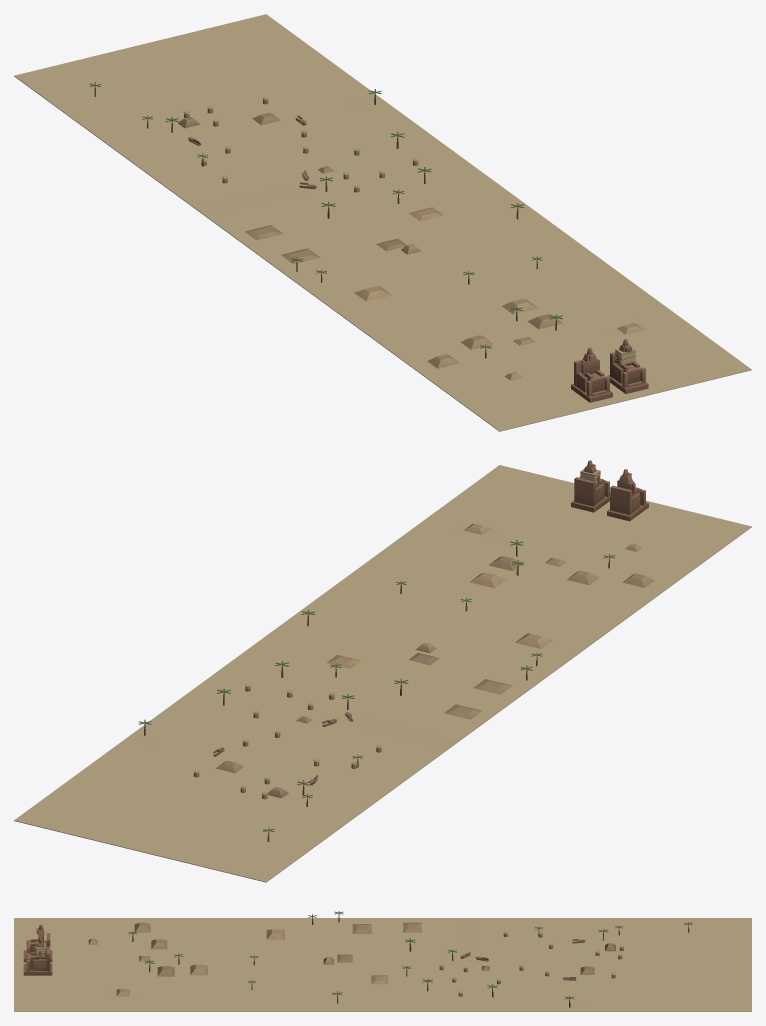
The model's file is memnon-roman.glb.
3 renders of one model, top to bottom at view 1: azimuth 30°, elevation 25°; view 2: azimuth 150°, elevation 25°; view 3: azimuth 270°, elevation 25°, orthographic. The views are drawn at different scales.
Parts seen in each view (by area): view 1: p0_ground, p1_colossi, p2_repair, p3_fields; view 2: p0_ground, p1_colossi, p2_repair, p3_fields; view 3: p0_ground, p1_colossi, p2_repair, p3_fields.
Boxes of the visible parts, <box> form: p0_ground: <box>14,14,751,431</box>; p1_colossi: <box>178,112,648,402</box>; p2_repair: <box>183,96,635,366</box>; p3_fields: <box>89,82,562,358</box>; p0_ground: <box>14,465,751,882</box>; p1_colossi: <box>216,460,654,798</box>; p2_repair: <box>193,468,600,799</box>; p3_fields: <box>139,540,615,841</box>; p0_ground: <box>14,918,751,1011</box>; p1_colossi: <box>23,922,615,996</box>; p2_repair: <box>36,931,624,996</box>; p3_fields: <box>128,911,692,1006</box>.
Size of the model in its own units: 120 by 20.17 by 400.
